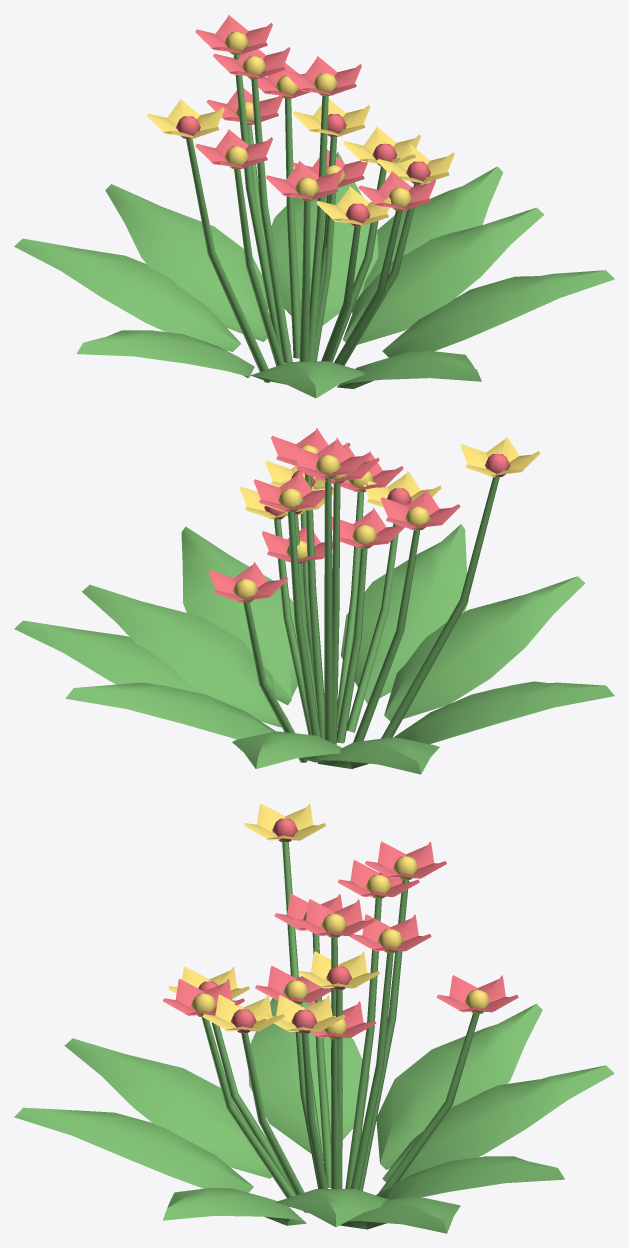
The model's file is blumenbusch.glb.
3 views of the same model, one above another, from view 1: azimuth 30°, elevation 25°; view 2: azimuth 150°, elevation 25°; view 3: azimuth 270°, elevation 25° (orthographic). The views are drawn at different scales.
Parts seen in each view (by area): view 1: blumenbusch_lod0; view 2: blumenbusch_lod0; view 3: blumenbusch_lod0.
Boxes of the visible parts, box(x1,y1,x2,y2) form: blumenbusch_lod0: box(14, 14, 614, 398); blumenbusch_lod0: box(14, 428, 614, 774); blumenbusch_lod0: box(14, 803, 614, 1233).
Size of what is drawn, in the model's own units: 1.4 by 0.8428 by 1.39.
